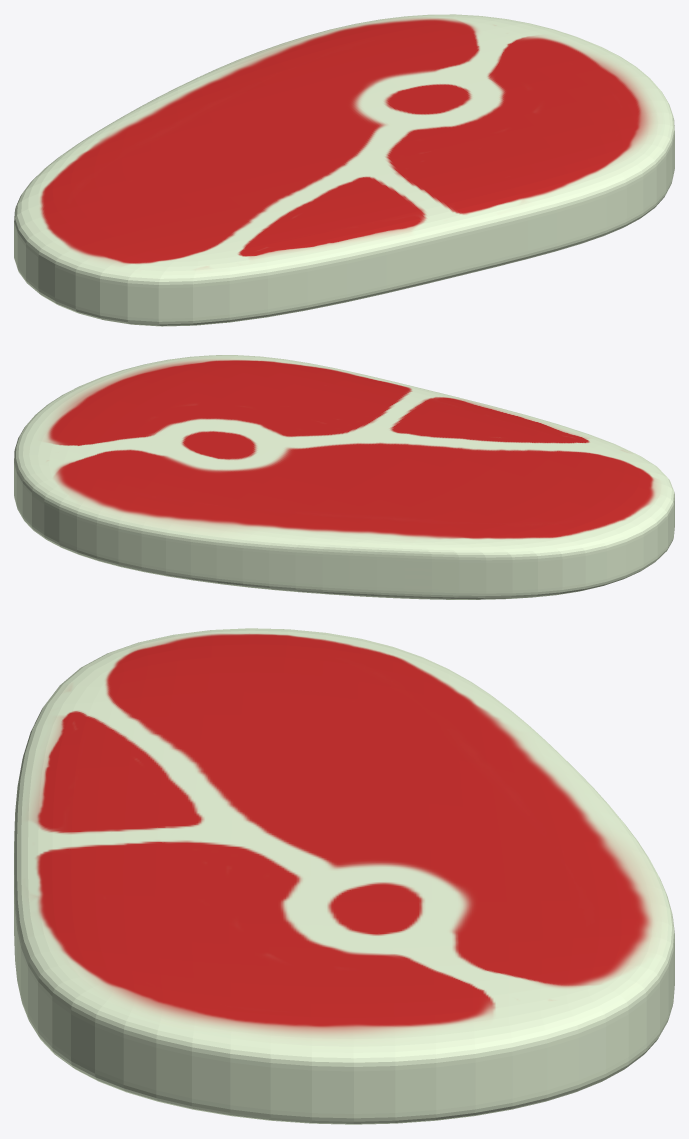
File: meat.fbx
3 renders of one model, top to bottom at view 1: azimuth 30°, elevation 25°; view 2: azimuth 150°, elevation 25°; view 3: azimuth 270°, elevation 25°, orthographic. The views are drawn at different scales.
Parts seen in each view (by area): view 1: Cube; view 2: Cube; view 3: Cube.
Boxes of the visible parts, x1,y1,x2,y2 form: Cube: (14, 14, 674, 326); Cube: (14, 355, 674, 599); Cube: (14, 628, 674, 1124).
Size of the model in its own units: 477 by 48.23 by 307.
1 material, 1 textured.
